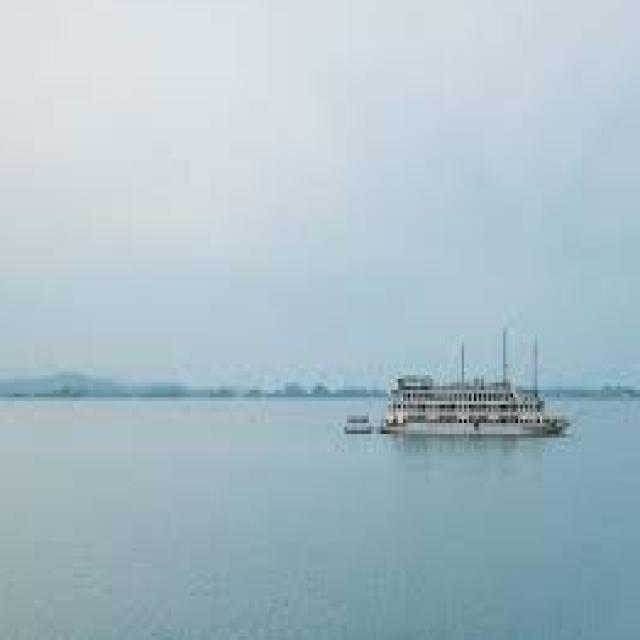passenger ship: (368, 350, 560, 438)
